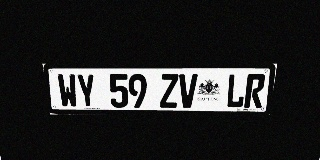5: (109, 74, 129, 108)
9: (128, 74, 147, 108)
L: (225, 74, 247, 108)
R: (244, 74, 266, 108)
V: (178, 74, 198, 108)
W: (56, 74, 79, 108)
Y: (76, 74, 97, 108)
Z: (160, 74, 178, 108)
